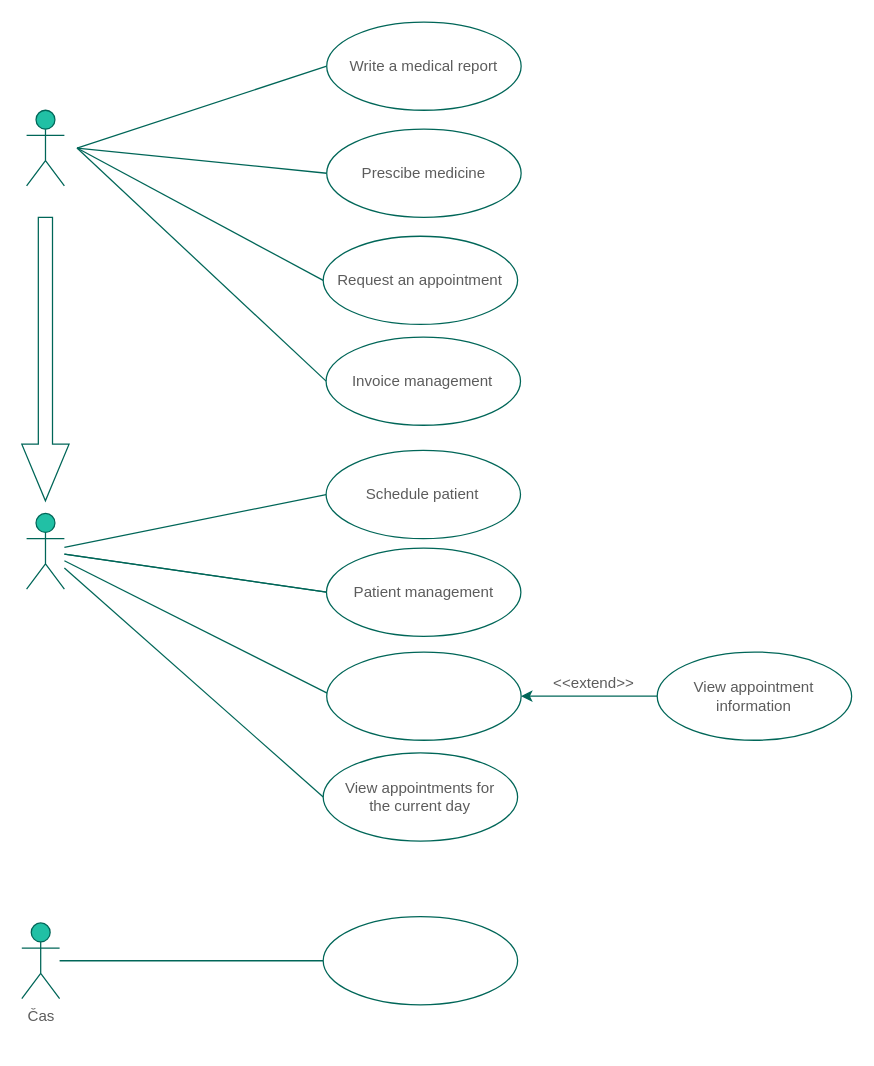
Some shapes in this 874 by 1066 pixel diagram are drawn without their labels. The centre of each missing label's shape, as x and y in pixels:
"Doctor" belongs at pixel 44 147.
"Nurse" belongs at pixel 44 550.
"Send vaccination/appointment notification" belongs at pixel 420 960.
"View patient information" belongs at pixel 423 695.
